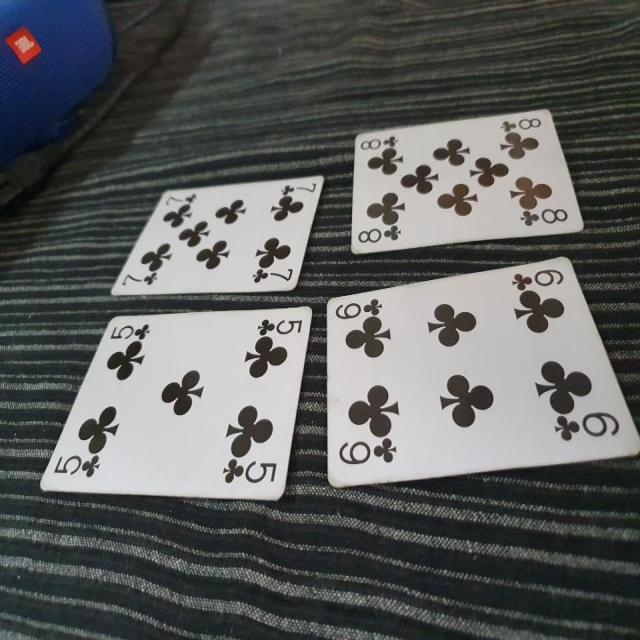5 Trefoils: (39, 302, 314, 503)
6 Trefoils: (324, 254, 640, 492)
7 Trefoils: (110, 173, 323, 295)
8 Trefoils: (350, 108, 586, 256)
